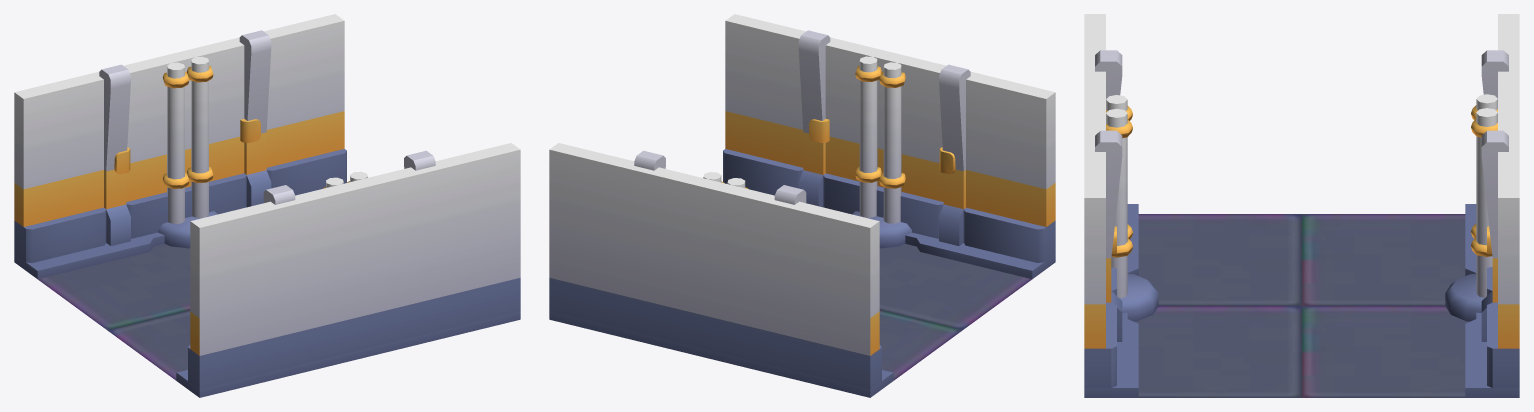
Rendered from corridor-wide.glb.
3 renders of one model, left to right at view 1: azimuth 30°, elevation 25°; view 2: azimuth 150°, elevation 25°; view 3: azimuth 270°, elevation 25°, orthographic. The views are drawn at different scales.
Visible parts, largest first — view 1: corridor-wide; view 2: corridor-wide; view 3: corridor-wide.
Part boxes in pixels (box(x1,y1,x2,y2)): corridor-wide: box(14, 14, 520, 397); corridor-wide: box(549, 14, 1055, 397); corridor-wide: box(1084, 14, 1519, 397).
Bounding box in the file's own units: 8 × 4.25 × 8.
1 material, 1 textured.
